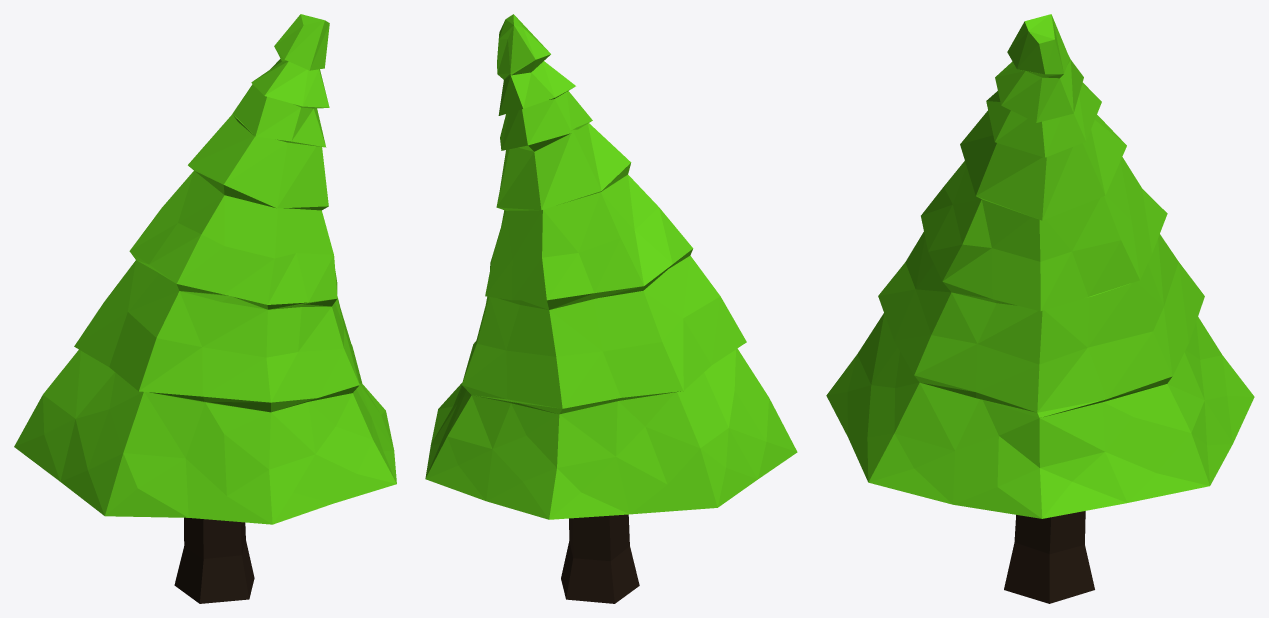
File: tree1.FBX
3 views of the same model, side by side, from view 1: azimuth 30°, elevation 25°; view 2: azimuth 150°, elevation 25°; view 3: azimuth 270°, elevation 25° (orthographic). The views are drawn at different scales.
Visible parts, largest first — view 1: Cylinder002, Cylinder001; view 2: Cylinder002, Cylinder001; view 3: Cylinder002, Cylinder001.
Boxes of the visible parts, x1,y1,x2,y2 form: Cylinder002: (14, 14, 396, 524); Cylinder001: (174, 517, 254, 603); Cylinder002: (425, 14, 797, 519); Cylinder001: (561, 514, 639, 603); Cylinder002: (826, 14, 1254, 518); Cylinder001: (1004, 511, 1094, 603).
Bounding box in the file's own units: 309 × 496 × 313.
